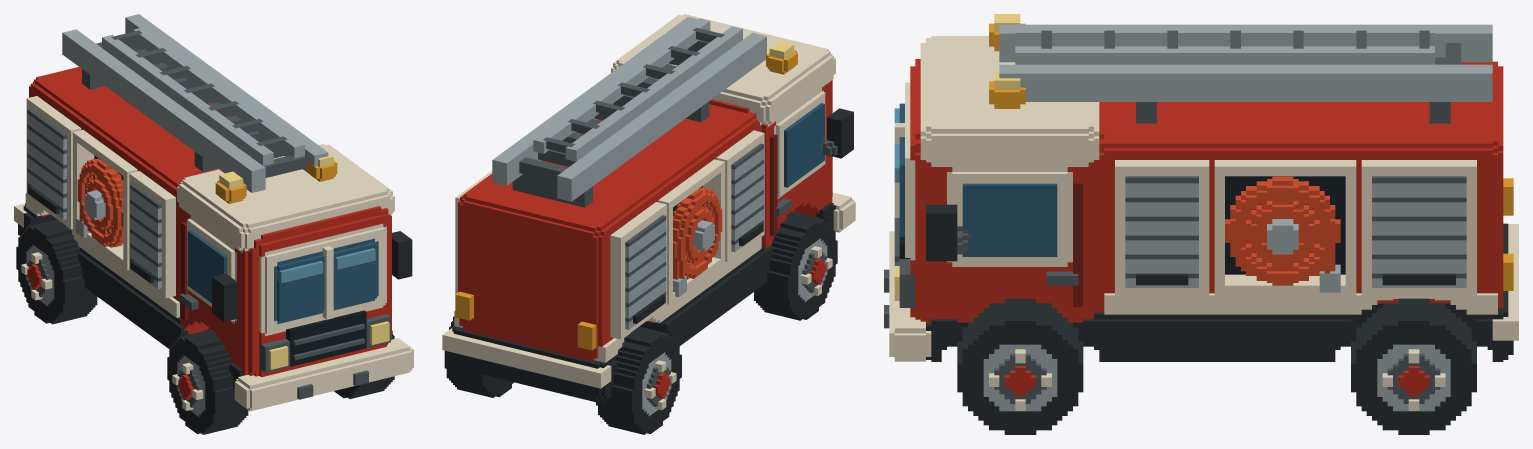
The model's file is fire_engine.glb.
3 views of the same model, side by side, from view 1: azimuth 30°, elevation 25°; view 2: azimuth 150°, elevation 25°; view 3: azimuth 270°, elevation 25° (orthographic). The views are drawn at different scales.
Visible parts, largest first — view 1: fire_engine; view 2: fire_engine; view 3: fire_engine.
Part boxes in pixels (x1,y1,x2,y2): fire_engine: [14, 14, 413, 434]; fire_engine: [442, 14, 855, 434]; fire_engine: [884, 14, 1518, 434].
Size of the model in its own units: 2.8 by 3.55 by 6.05.
